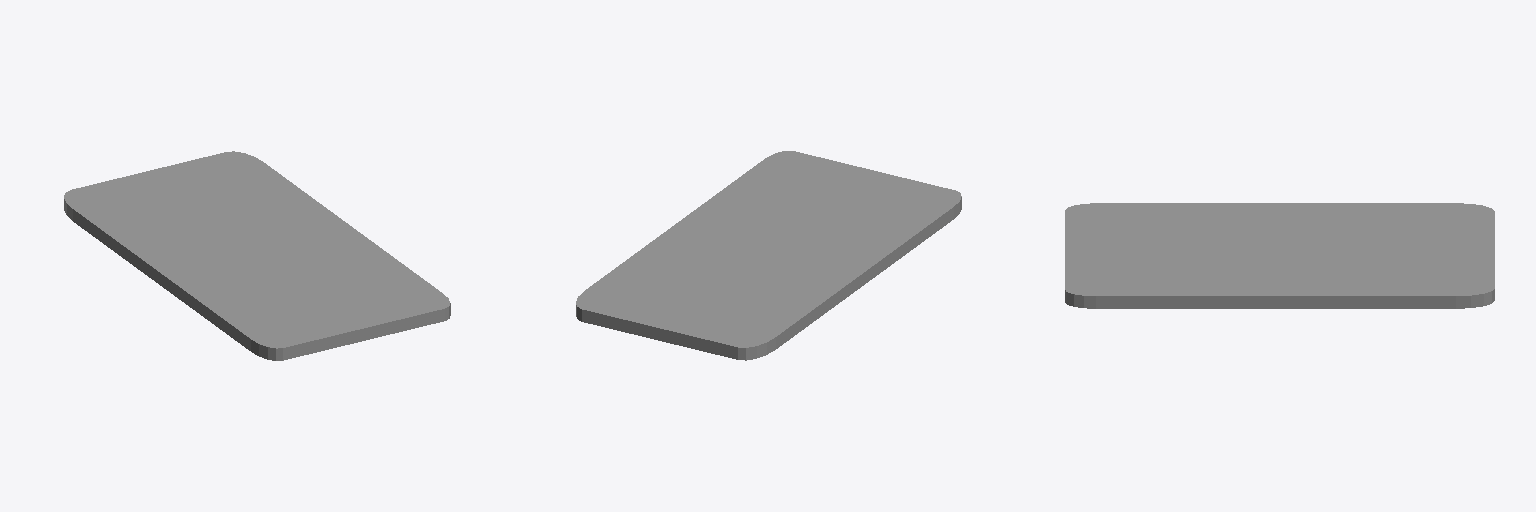
The model's file is geeksphone_firefoxos.obj.
3 views of the same model, side by side, from view 1: azimuth 30°, elevation 25°; view 2: azimuth 150°, elevation 25°; view 3: azimuth 270°, elevation 25° (orthographic).
Parts seen in each view (by area): view 1: Cube_Cube.003; view 2: Cube_Cube.003; view 3: Cube_Cube.003.
Boxes of the visible parts, <box> form: Cube_Cube.003: <box>64,151,450,360</box>; Cube_Cube.003: <box>576,151,961,360</box>; Cube_Cube.003: <box>1065,203,1494,308</box>.
Size of the model in its own units: 2.92 by 0.1831 by 5.69.